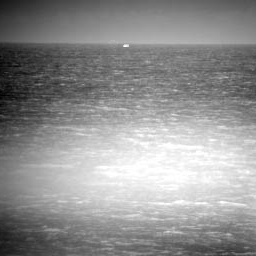Target: (121, 43, 130, 49)
